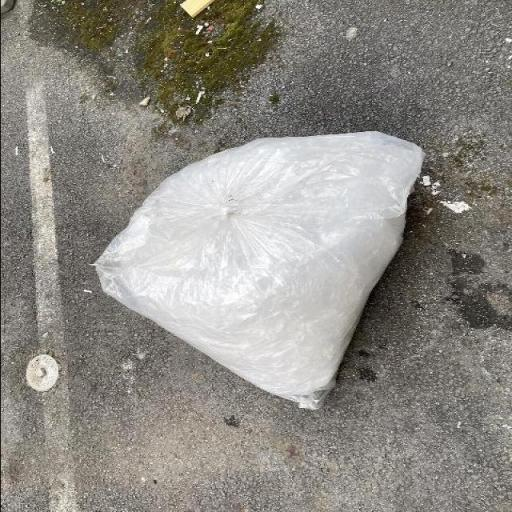plastic-bag: (99, 133, 434, 406)
